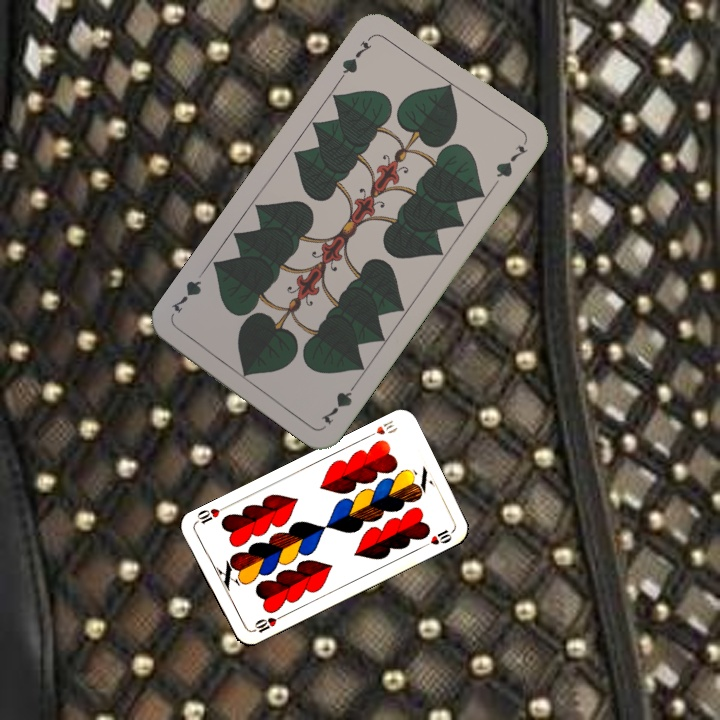G7: (316, 376, 361, 428), (335, 31, 376, 82)
H10: (362, 416, 400, 441), (247, 611, 285, 635)
